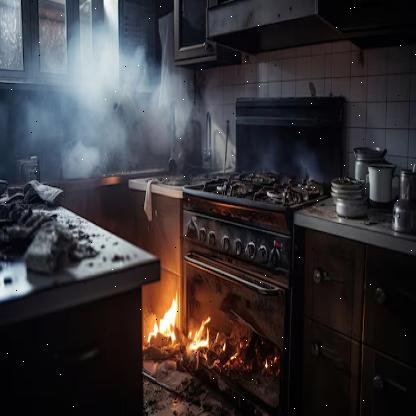fire: (140, 287, 243, 370)
smoke: (0, 14, 240, 192)
